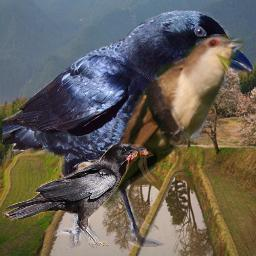Crow: (2, 10, 254, 253), (2, 139, 162, 246)
Cuckoo: (92, 34, 244, 213)
